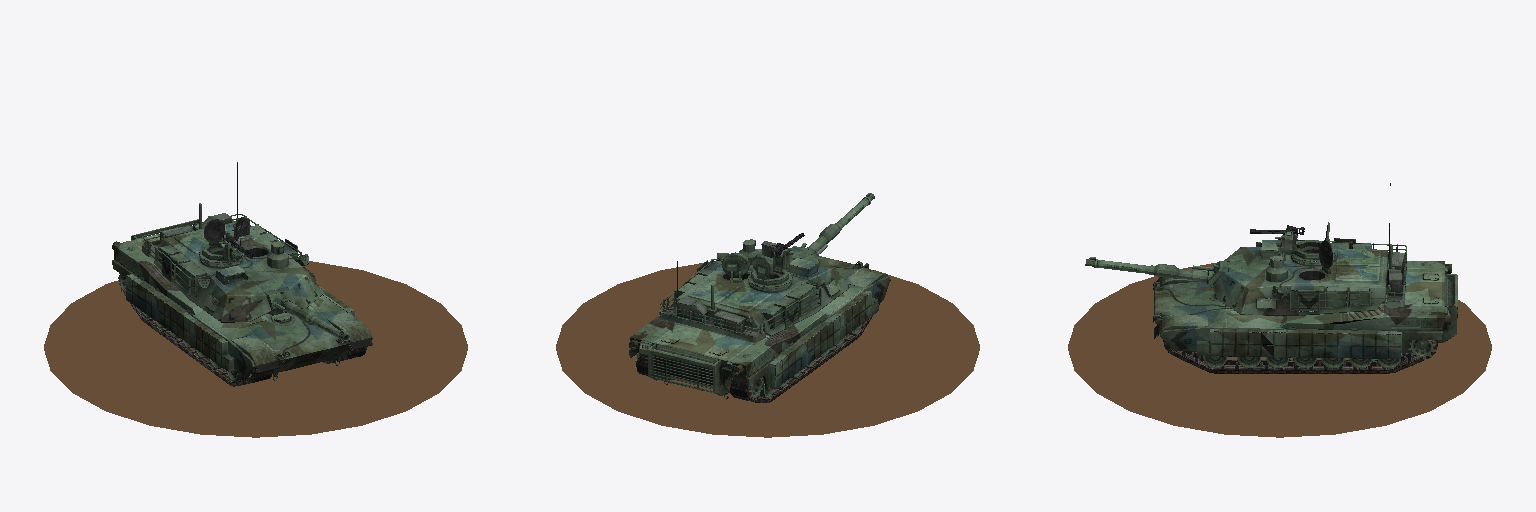
3 views of the same model, side by side, from view 1: azimuth 30°, elevation 25°; view 2: azimuth 150°, elevation 25°; view 3: azimuth 270°, elevation 25° (orthographic).
Parts seen in each view (by area): view 1: Mesh249 Model, Mesh44 US_M1A2ABRAMS_TUSK_FULL1_1 US_Army_M1A2_Abrams_TUSK_Main_, Mesh85 US_M1A2ABRAMS_TUSK_FULL1_1 US_Army_M1A2_Abrams_TUSK_Main_, Mesh4 US_M1A2ABRAMS_TUSK_FULL1_1 US_Army_M1A2_Abrams_TUSK_Main_B, Mesh166 US_M1A2ABRAMS_TUSK_FULL1_1 US_Army_M1A2_Abrams_TUSK_Main, Mesh54 US_M1A2ABRAMS_TUSK_FULL1_1 US_Army_M1A2_Abrams_TUSK_Main_, Mesh42 US_M1A2ABRAMS_TUSK_FULL1_1 US_Army_M1A2_Abrams_TUSK_Main_, Mesh43 US_M1A2ABRAMS_TUSK_FULL1_1 US_Army_M1A2_Abrams_TUSK_Main_; view 2: Mesh249 Model, Mesh44 US_M1A2ABRAMS_TUSK_FULL1_1 US_Army_M1A2_Abrams_TUSK_Main_, Mesh4 US_M1A2ABRAMS_TUSK_FULL1_1 US_Army_M1A2_Abrams_TUSK_Main_B, Mesh85 US_M1A2ABRAMS_TUSK_FULL1_1 US_Army_M1A2_Abrams_TUSK_Main_, Mesh166 US_M1A2ABRAMS_TUSK_FULL1_1 US_Army_M1A2_Abrams_TUSK_Main, Mesh13 US_M1A2ABRAMS_TUSK_FULL1_1 US_Army_M1A2_Abrams_TUSK_Main_, Mesh54 US_M1A2ABRAMS_TUSK_FULL1_1 US_Army_M1A2_Abrams_TUSK_Main_, Mesh104 US_M1A2ABRAMS_TUSK_FULL1_1 US_Army_M1A2_Abrams_TUSK_Main, Mesh109 US_M1A2ABRAMS_TUSK_FULL1_1 US_Army_M1A2_Abrams_TUSK_Main, Mesh110 US_M1A2ABRAMS_TUSK_FULL1_1 US_Army_M1A2_Abrams_TUSK_Main, Mesh184 US_M1A2ABRAMS_TUSK_FULL1_1 US_Army_M1A2_Abrams_TUSK_Main; view 3: Mesh249 Model, Mesh44 US_M1A2ABRAMS_TUSK_FULL1_1 US_Army_M1A2_Abrams_TUSK_Main_, Mesh85 US_M1A2ABRAMS_TUSK_FULL1_1 US_Army_M1A2_Abrams_TUSK_Main_, Mesh6 US_M1A2ABRAMS_TUSK_FULL1_1 US_Army_M1A2_Abrams_TUSK_Main_B, Mesh246 US_M1A2ABRAMS_TUSK_FULL1_1 US_Army_M1A2_Abrams_TUSK_Main, Mesh52 US_M1A2ABRAMS_TUSK_FULL1_1 US_Army_M1A2_Abrams_TUSK_Main_, Mesh184 US_M1A2ABRAMS_TUSK_FULL1_1 US_Army_M1A2_Abrams_TUSK_Main, Mesh110 US_M1A2ABRAMS_TUSK_FULL1_1 US_Army_M1A2_Abrams_TUSK_Main, Mesh109 US_M1A2ABRAMS_TUSK_FULL1_1 US_Army_M1A2_Abrams_TUSK_Main, Mesh43 US_M1A2ABRAMS_TUSK_FULL1_1 US_Army_M1A2_Abrams_TUSK_Main_.
Part boxes in pixels (x1,y1,x2,y2): Mesh249 Model: (44, 261, 467, 437); Mesh44 US_M1A2ABRAMS_TUSK_FULL1_1 US_Army_M1A2_Abrams_TUSK_Main_: (113, 220, 350, 373); Mesh85 US_M1A2ABRAMS_TUSK_FULL1_1 US_Army_M1A2_Abrams_TUSK_Main_: (154, 222, 323, 322); Mesh4 US_M1A2ABRAMS_TUSK_FULL1_1 US_Army_M1A2_Abrams_TUSK_Main_B: (126, 274, 233, 371); Mesh166 US_M1A2ABRAMS_TUSK_FULL1_1 US_Army_M1A2_Abrams_TUSK_Main: (119, 275, 272, 386); Mesh54 US_M1A2ABRAMS_TUSK_FULL1_1 US_Army_M1A2_Abrams_TUSK_Main_: (112, 260, 254, 377); Mesh42 US_M1A2ABRAMS_TUSK_FULL1_1 US_Army_M1A2_Abrams_TUSK_Main_: (232, 335, 277, 365); Mesh43 US_M1A2ABRAMS_TUSK_FULL1_1 US_Army_M1A2_Abrams_TUSK_Main_: (325, 312, 371, 341); Mesh249 Model: (556, 262, 979, 437); Mesh44 US_M1A2ABRAMS_TUSK_FULL1_1 US_Army_M1A2_Abrams_TUSK_Main_: (630, 256, 868, 393); Mesh4 US_M1A2ABRAMS_TUSK_FULL1_1 US_Army_M1A2_Abrams_TUSK_Main_B: (770, 291, 878, 388); Mesh85 US_M1A2ABRAMS_TUSK_FULL1_1 US_Army_M1A2_Abrams_TUSK_Main_: (671, 248, 849, 335); Mesh166 US_M1A2ABRAMS_TUSK_FULL1_1 US_Army_M1A2_Abrams_TUSK_Main: (730, 302, 880, 402); Mesh13 US_M1A2ABRAMS_TUSK_FULL1_1 US_Army_M1A2_Abrams_TUSK_Main_: (654, 345, 717, 385); Mesh54 US_M1A2ABRAMS_TUSK_FULL1_1 US_Army_M1A2_Abrams_TUSK_Main_: (747, 276, 890, 387); Mesh104 US_M1A2ABRAMS_TUSK_FULL1_1 US_Army_M1A2_Abrams_TUSK_Main: (659, 307, 765, 342); Mesh109 US_M1A2ABRAMS_TUSK_FULL1_1 US_Army_M1A2_Abrams_TUSK_Main: (720, 287, 771, 312); Mesh110 US_M1A2ABRAMS_TUSK_FULL1_1 US_Army_M1A2_Abrams_TUSK_Main: (688, 279, 739, 303); Mesh184 US_M1A2ABRAMS_TUSK_FULL1_1 US_Army_M1A2_Abrams_TUSK_Main: (807, 193, 874, 251); Mesh249 Model: (1068, 262, 1491, 437); Mesh44 US_M1A2ABRAMS_TUSK_FULL1_1 US_Army_M1A2_Abrams_TUSK_Main_: (1154, 260, 1444, 352); Mesh85 US_M1A2ABRAMS_TUSK_FULL1_1 US_Army_M1A2_Abrams_TUSK_Main_: (1213, 247, 1387, 315); Mesh6 US_M1A2ABRAMS_TUSK_FULL1_1 US_Army_M1A2_Abrams_TUSK_Main_B: (1197, 329, 1401, 358); Mesh246 US_M1A2ABRAMS_TUSK_FULL1_1 US_Army_M1A2_Abrams_TUSK_Main: (1163, 340, 1437, 373); Mesh52 US_M1A2ABRAMS_TUSK_FULL1_1 US_Army_M1A2_Abrams_TUSK_Main_: (1160, 326, 1442, 354); Mesh184 US_M1A2ABRAMS_TUSK_FULL1_1 US_Army_M1A2_Abrams_TUSK_Main: (1085, 259, 1207, 281); Mesh110 US_M1A2ABRAMS_TUSK_FULL1_1 US_Army_M1A2_Abrams_TUSK_Main: (1335, 266, 1379, 282); Mesh109 US_M1A2ABRAMS_TUSK_FULL1_1 US_Army_M1A2_Abrams_TUSK_Main: (1336, 250, 1380, 266); Mesh43 US_M1A2ABRAMS_TUSK_FULL1_1 US_Army_M1A2_Abrams_TUSK_Main_: (1159, 314, 1207, 333).
Size of the model in its own units: 11234 by 5358 by 11234.
5 materials, 3 textured.